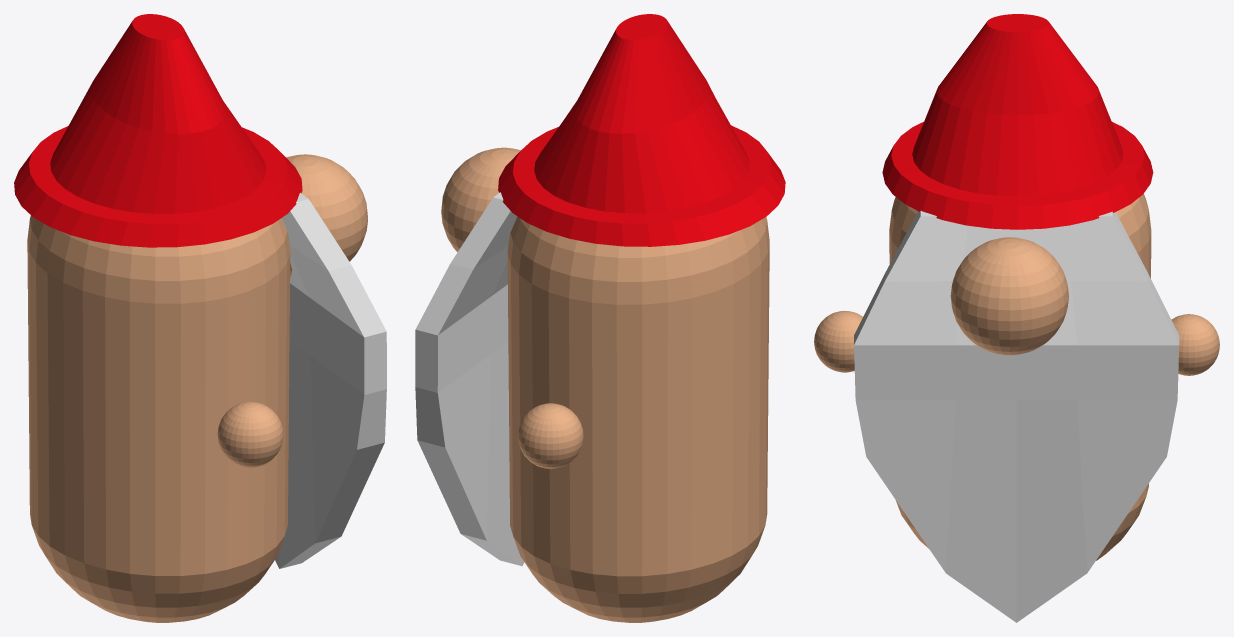
The model's file is gnome1.fbx.
The picture shows the model from 3 angles, left to right: view 1: azimuth 30°, elevation 25°; view 2: azimuth 150°, elevation 25°; view 3: azimuth 270°, elevation 25°; orthographic projection. The views are drawn at different scales.
Parts seen in each view (by area): view 1: gnome1; view 2: gnome1; view 3: gnome1.
Boxes of the visible parts, bbox=[...] form: gnome1: bbox=[14, 14, 386, 622]; gnome1: bbox=[415, 14, 785, 622]; gnome1: bbox=[814, 14, 1219, 622].
Bounding box in the file's own units: 288 × 499 × 336.
